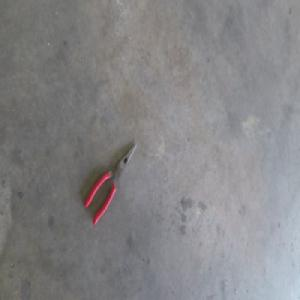Pliers: (84, 142, 137, 223)
